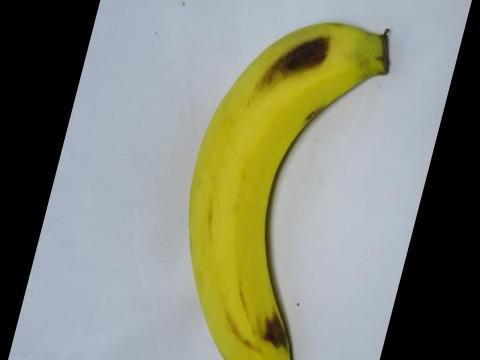freshripe: (167, 13, 401, 359)
